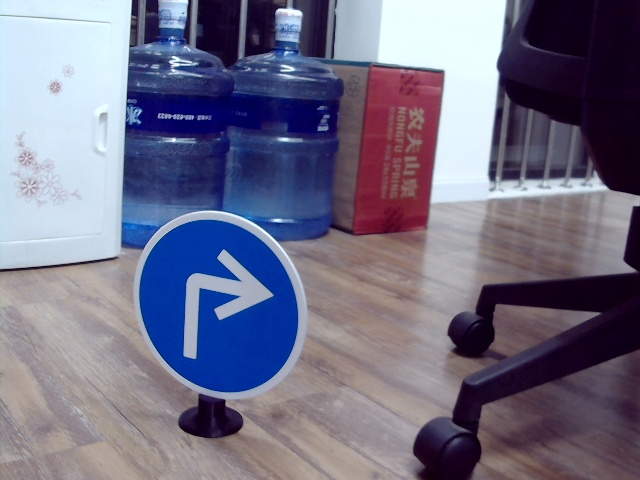turn_right: (164, 236, 278, 365)
